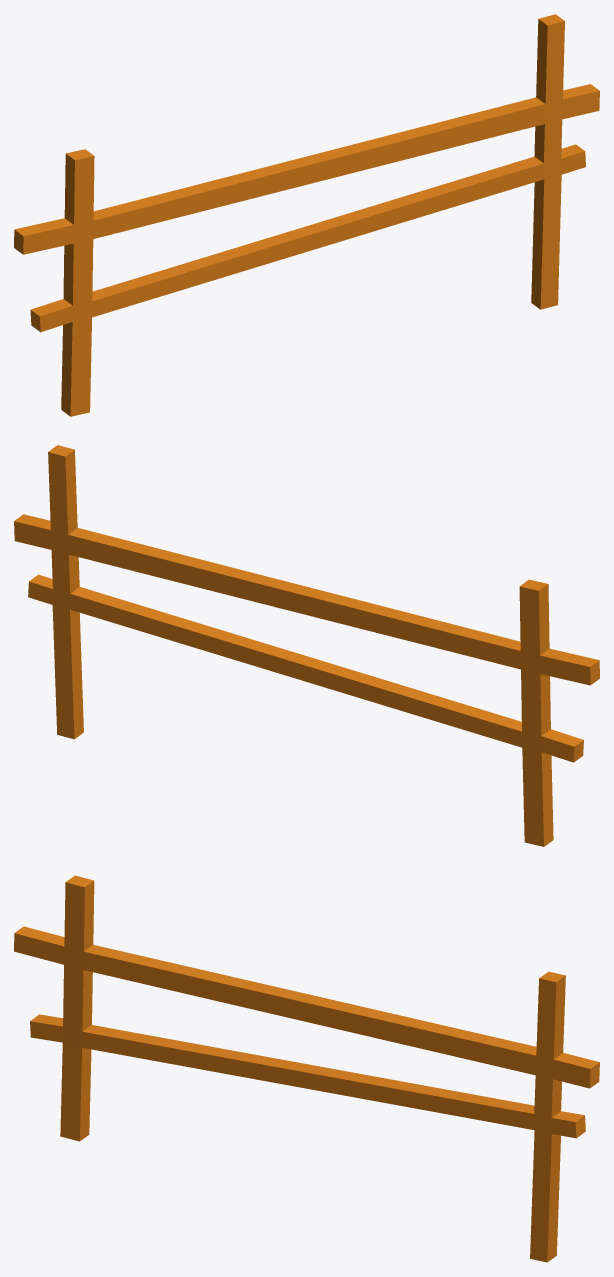
Rendered from wooden_fence1.fbx.
The picture shows the model from 3 angles, top to bottom: view 1: azimuth 30°, elevation 25°; view 2: azimuth 150°, elevation 25°; view 3: azimuth 330°, elevation 25°; orthographic projection.
Parts seen in each view (by area): view 1: Wooden_fence; view 2: Wooden_fence; view 3: Wooden_fence.
Part boxes in pixels (x1,y1,x2,y2): Wooden_fence: (14, 14, 599, 416); Wooden_fence: (14, 445, 599, 846); Wooden_fence: (14, 875, 599, 1262).
Bounding box in the file's own units: 862 × 403 × 27.17.
